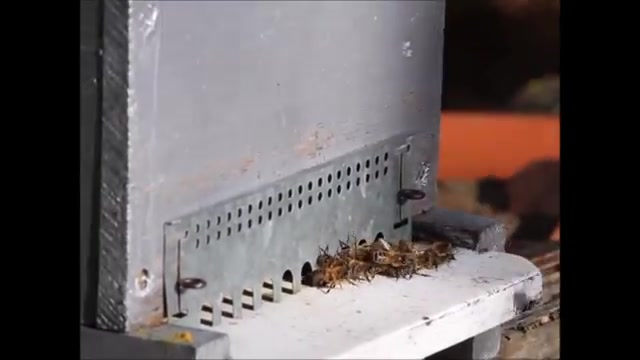bee: (372, 240, 417, 277), (336, 248, 372, 285), (417, 245, 453, 270), (306, 263, 334, 292)
